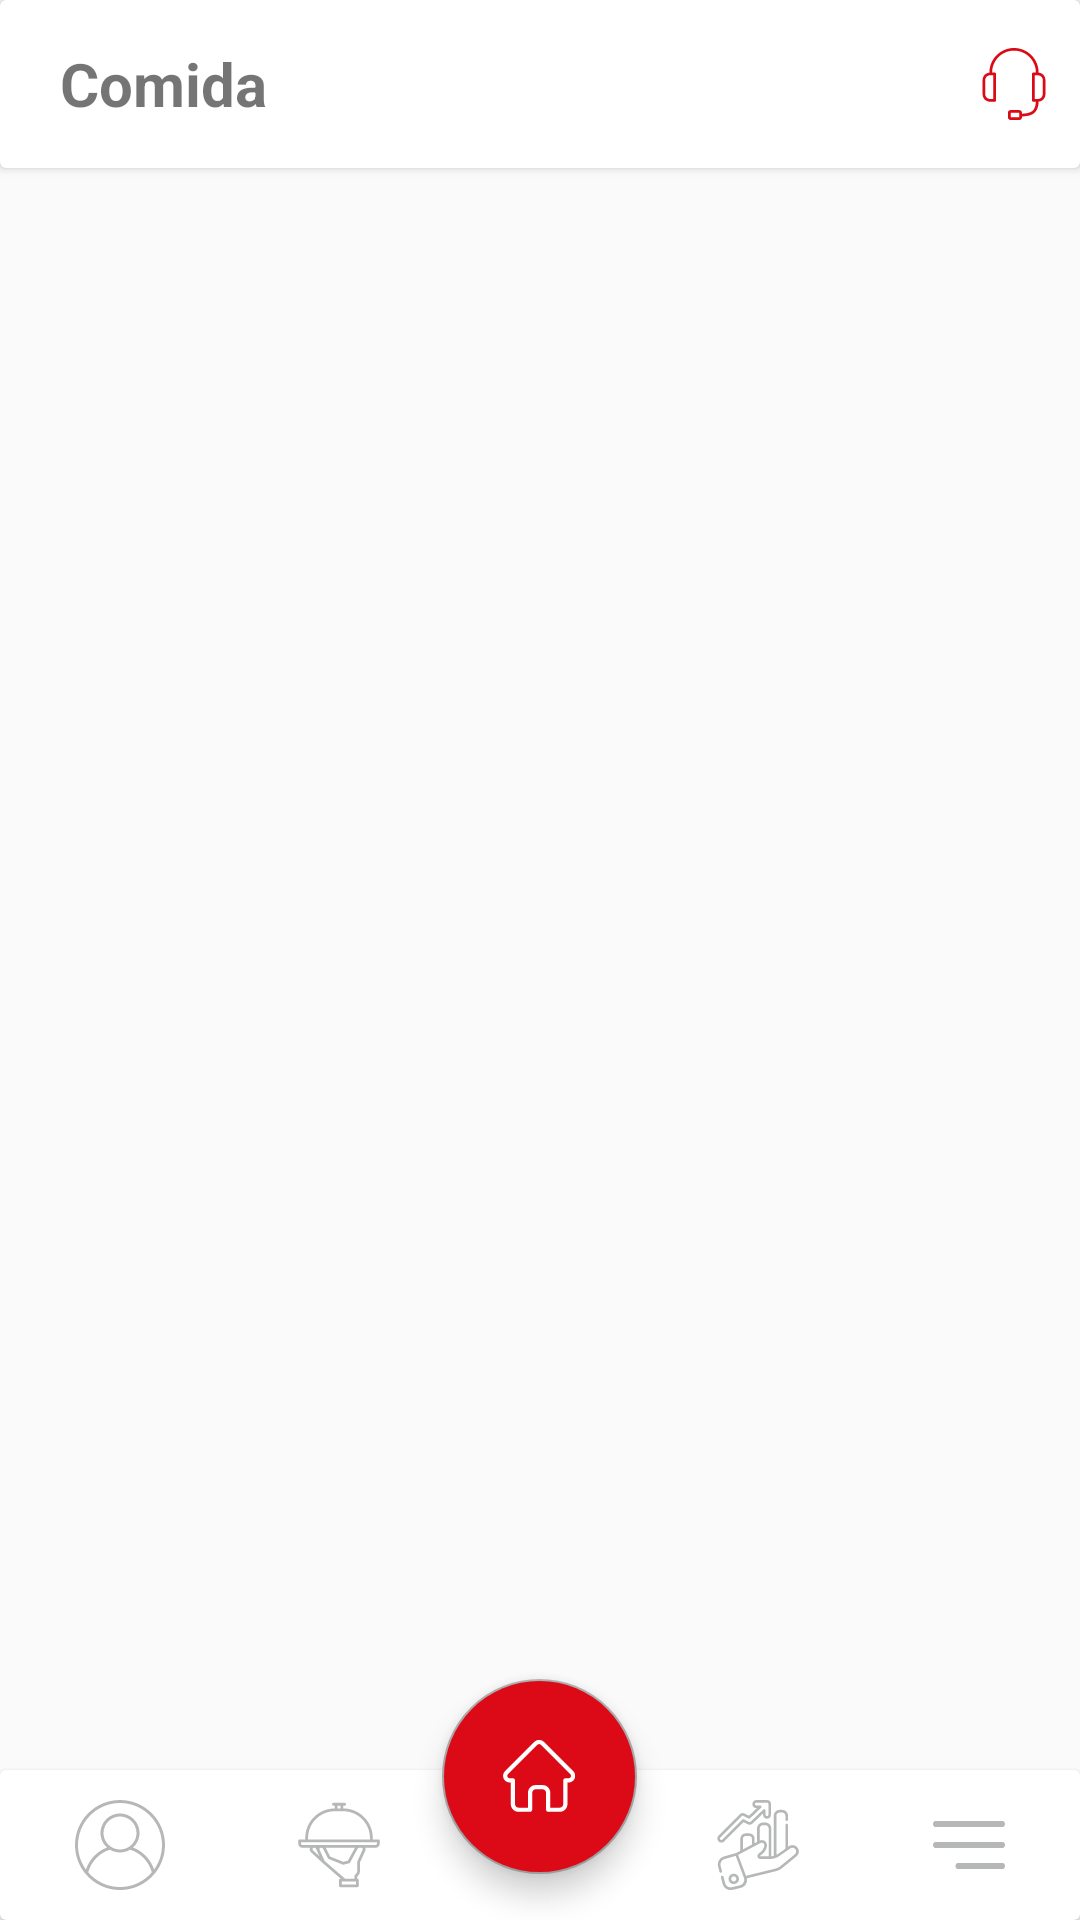

Screen size 1080 × 1920. Icon name, then its center in pixels as [x,y]:
food management: [339,1845]
home: [539,1776]
menu: [969,1845]
profilee: [120,1845]
sales: [758,1845]
support: [1014,84]
